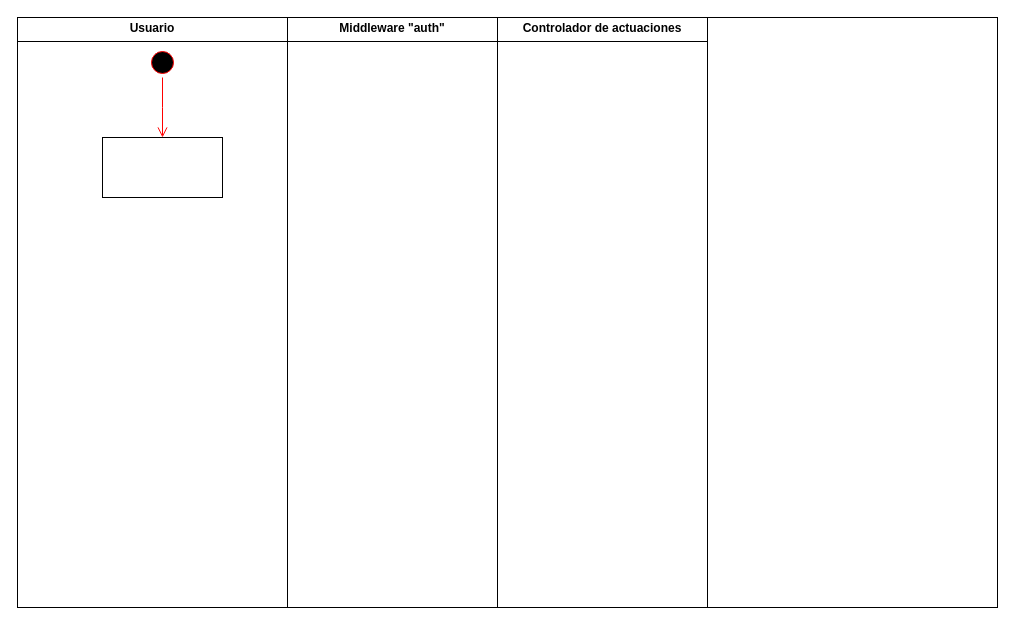
Some shapes in this 1015 by 625 pixel diagram are drawn without their labels. The centre of each missing label's shape, as x and y in pixels:
Base de datos: the point at 852,312
Solicita ingresar al módulo de actuaciones fiscales: the point at 162,167
